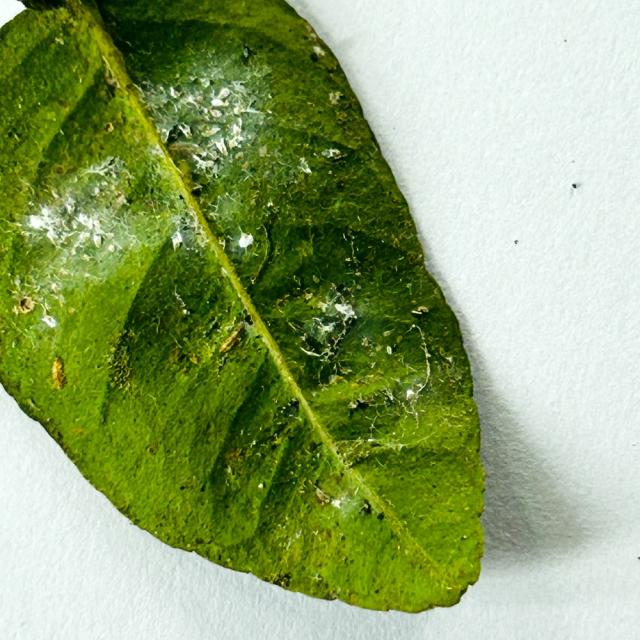Bacterial_Blight: (18, 155, 149, 288), (150, 64, 264, 171), (349, 319, 434, 430), (291, 285, 363, 361), (29, 199, 113, 259), (205, 190, 264, 257), (313, 466, 369, 513), (296, 323, 339, 377), (269, 150, 323, 193), (8, 272, 49, 317), (406, 331, 434, 396), (204, 126, 246, 165), (217, 320, 253, 365), (302, 313, 345, 348), (75, 212, 112, 249), (78, 156, 126, 182), (334, 489, 368, 518), (174, 220, 200, 251), (343, 236, 361, 275), (228, 230, 255, 255), (28, 212, 57, 234), (226, 123, 246, 151), (172, 288, 191, 316), (191, 120, 216, 138), (192, 153, 215, 172), (282, 399, 301, 418), (315, 320, 337, 336), (334, 302, 355, 317), (299, 345, 323, 358), (241, 44, 255, 65), (314, 487, 330, 504), (297, 158, 312, 174), (171, 230, 183, 250), (214, 139, 228, 156), (178, 123, 192, 139), (321, 148, 341, 159), (387, 441, 405, 453), (77, 213, 92, 227), (232, 80, 249, 92), (205, 125, 221, 137), (161, 128, 171, 143), (47, 316, 59, 328), (317, 301, 328, 311), (247, 99, 257, 110), (200, 78, 211, 88), (406, 389, 415, 399), (348, 400, 358, 409), (295, 530, 302, 539), (182, 309, 188, 315)
Lemon: (0, 0, 487, 617)
